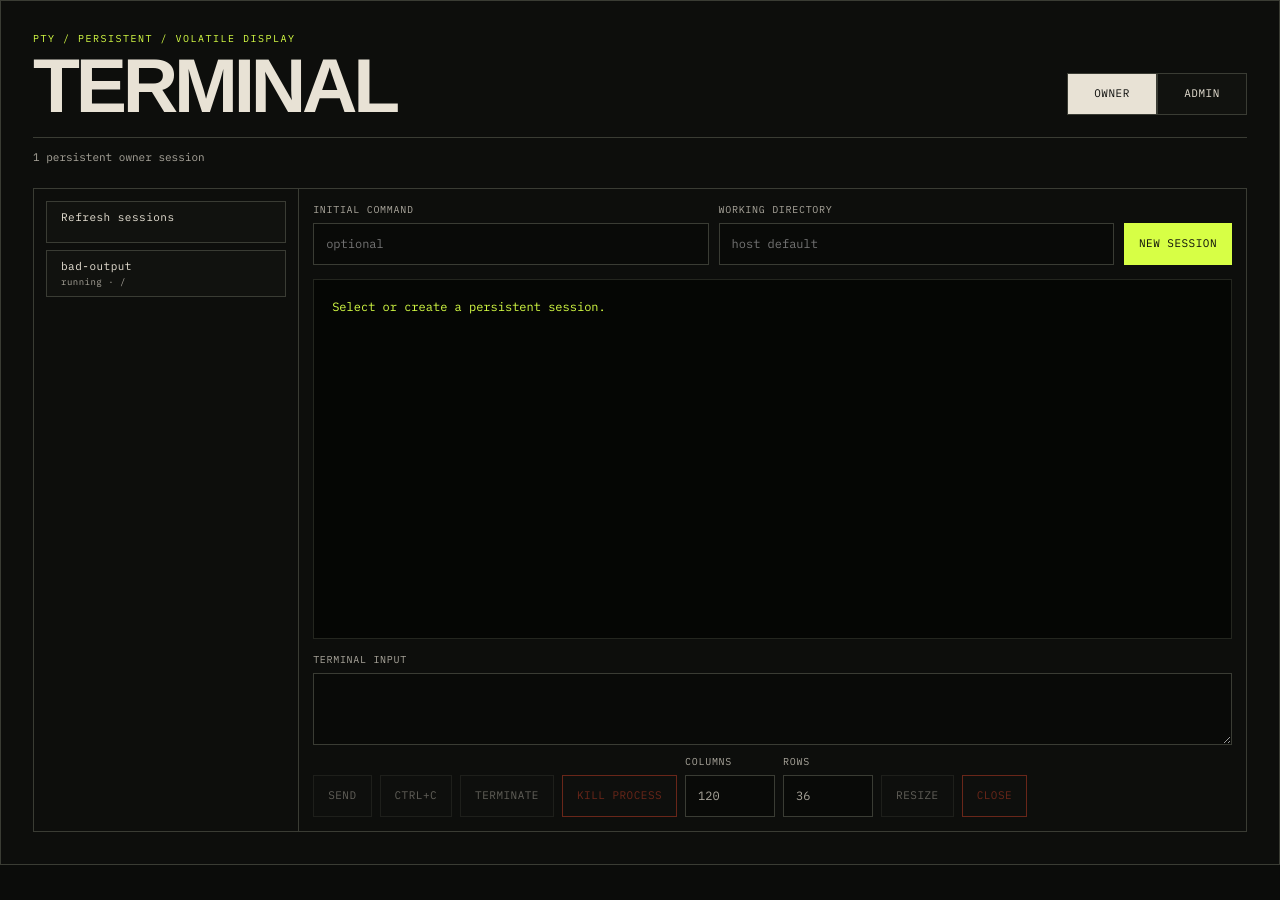
Test: panel error and request boundaries › rejects malformed present output metadata {"StartCursor":"invalid"}
Click the button "bad-output running · /": (166, 273) [46,250,286,297]
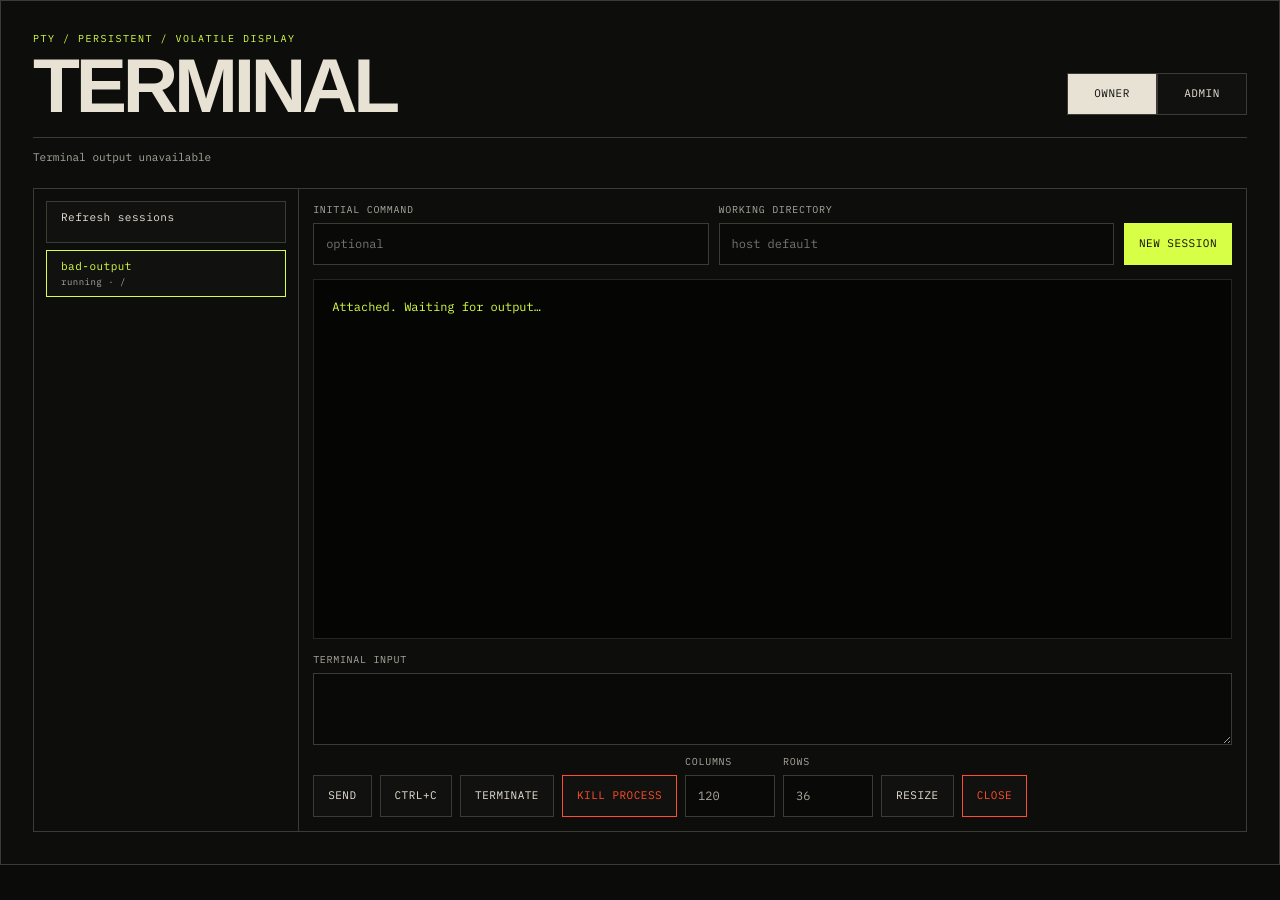
Expected: the text "Attached. Waiting for output…" does not show "TEXT", [313,279,1232,639]
Expected: the text "Terminal output unavailable" is shown, [33,150,211,164]
